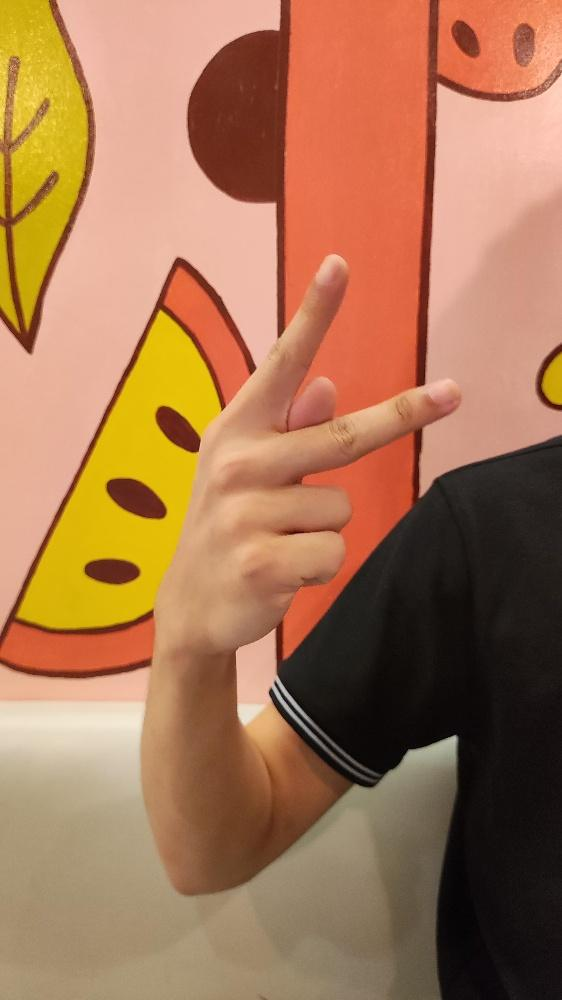k: (157, 250, 464, 657)
